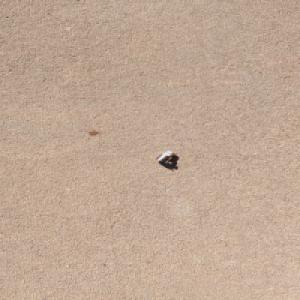MetalPart: (154, 150, 175, 165)
